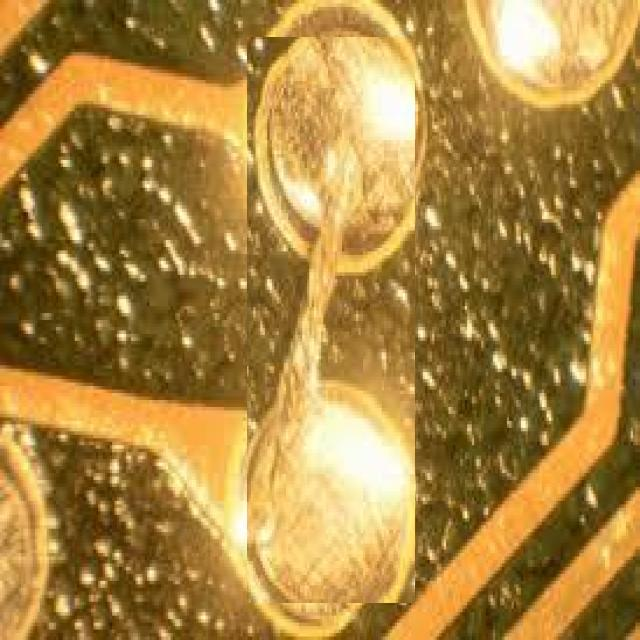Short_circuit: (246, 37, 415, 603)
